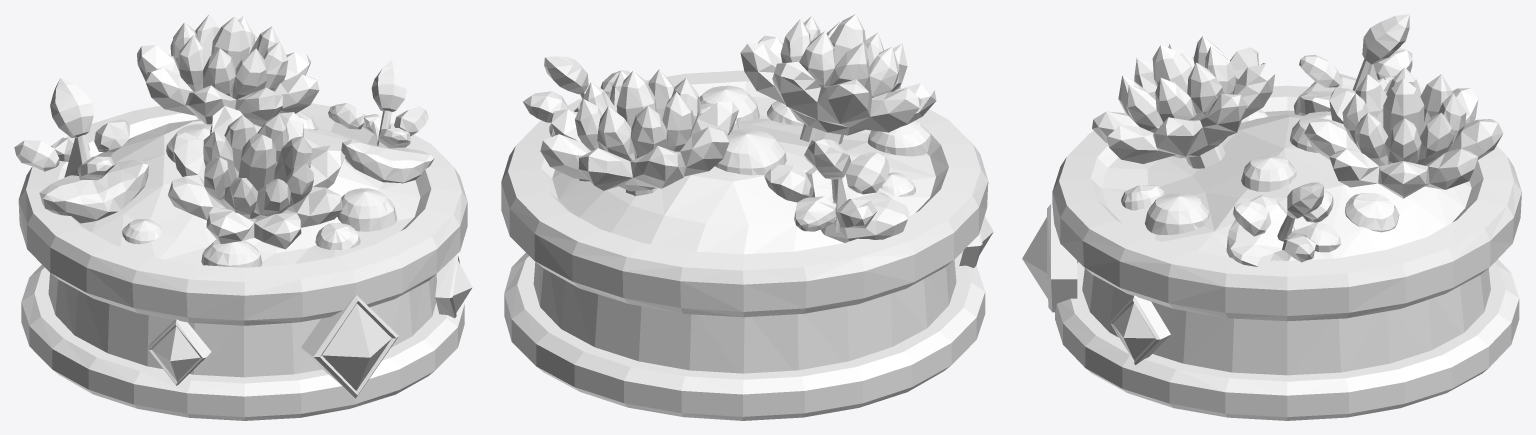
File: g_e_planter.glb
The picture shows the model from 3 angles, left to right: view 1: azimuth 30°, elevation 25°; view 2: azimuth 150°, elevation 25°; view 3: azimuth 270°, elevation 25°; orthographic projection. The views are drawn at different scales.
Visible parts, largest first — view 1: geometry_0; view 2: geometry_0; view 3: geometry_0.
Part boxes in pixels (left/top/right/bottom): geometry_0: left=14, top=14, right=472, bottom=420; geometry_0: left=501, top=14, right=993, bottom=420; geometry_0: left=1022, top=14, right=1521, bottom=420.
Bounding box in the file's own units: 0.1724 × 0.1113 × 0.1851.
1 material, 1 textured.
